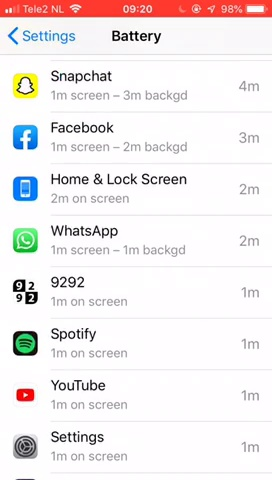app: (7, 66, 264, 108), (12, 118, 266, 157), (14, 169, 268, 208), (9, 223, 263, 262), (12, 274, 266, 313), (9, 327, 263, 366), (12, 377, 266, 416), (10, 427, 264, 466)
